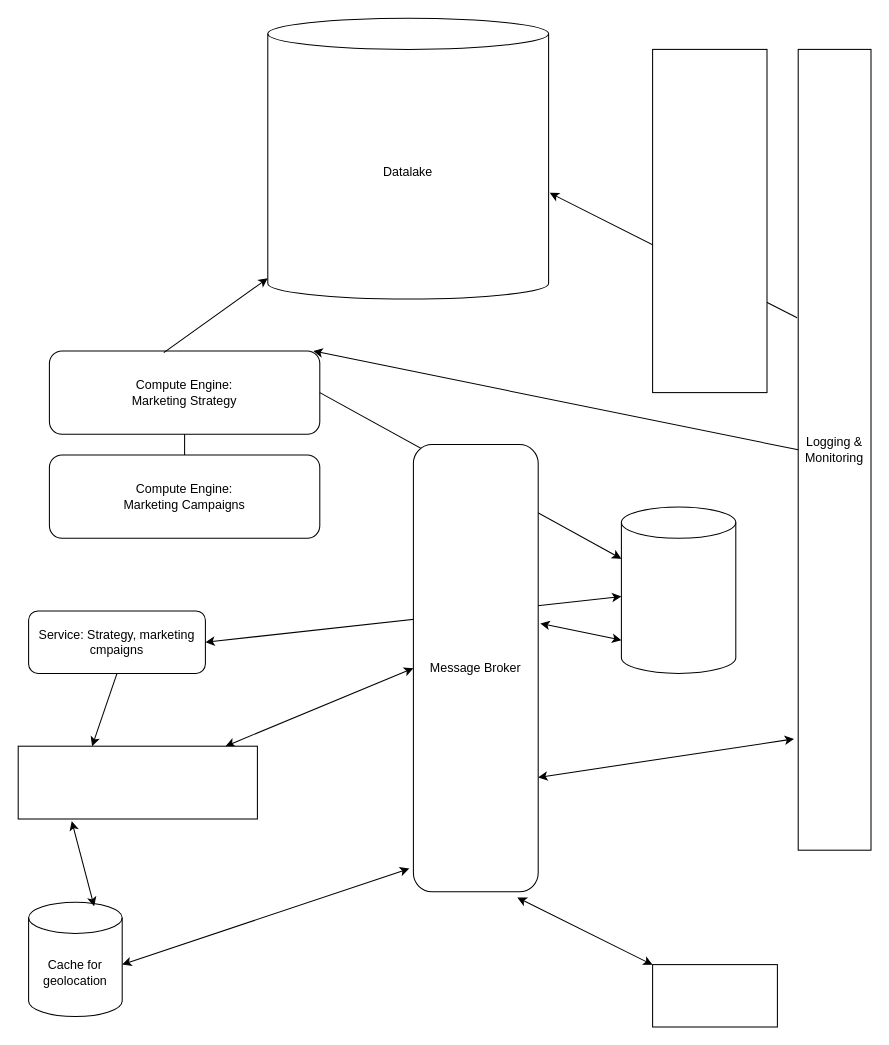
This 889x1045 diagram has some shape labels left out. Here are the shapes that lost their labels. From the top down, the centre of each, then its label:
At pixel 709 220: "DQ Dashboard, Data Catalogue, Lineage".
At pixel 678 589: "ML Data".
At pixel 137 782: "Service: sending SMS".
At pixel 714 995: "Service: location".
